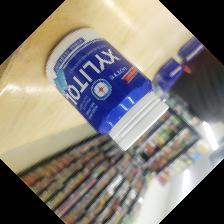Xylitol_blue: (43, 25, 169, 152)
